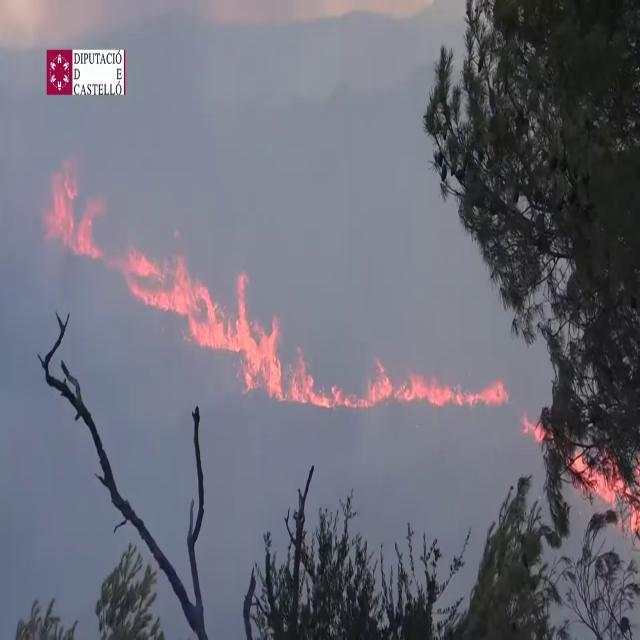Fire: (115, 228, 288, 392), (264, 340, 512, 412), (570, 438, 640, 538), (46, 156, 104, 260)
